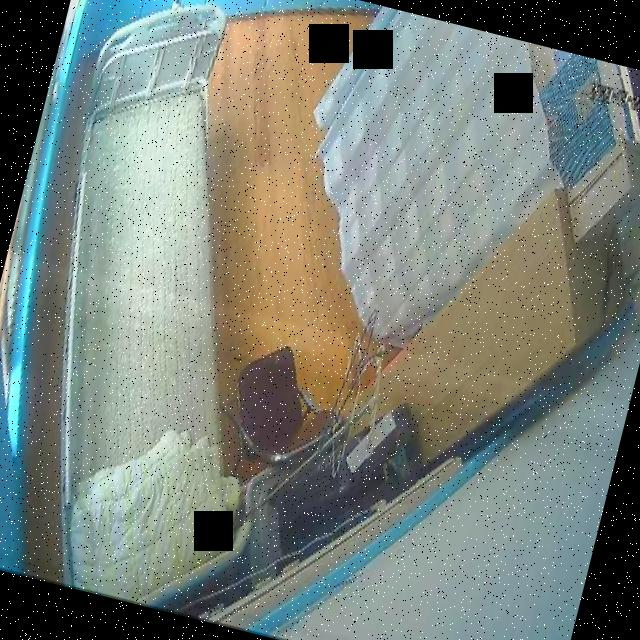bed: (0, 0, 355, 622)
